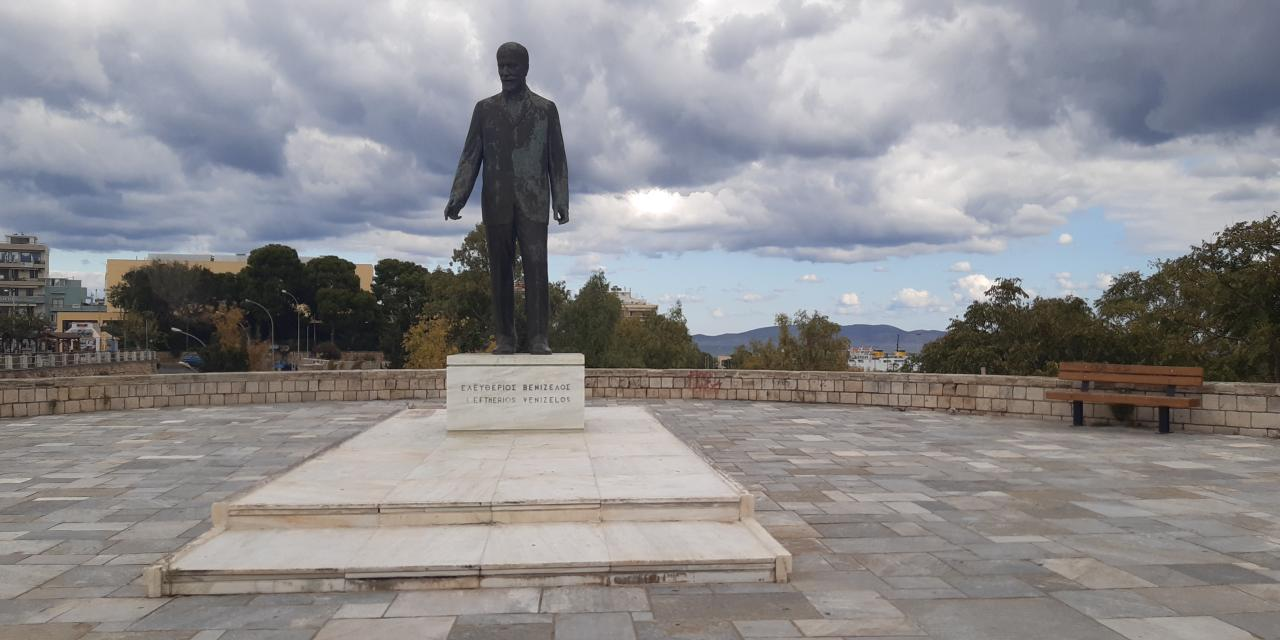Venizelos: (447, 41, 575, 357)
